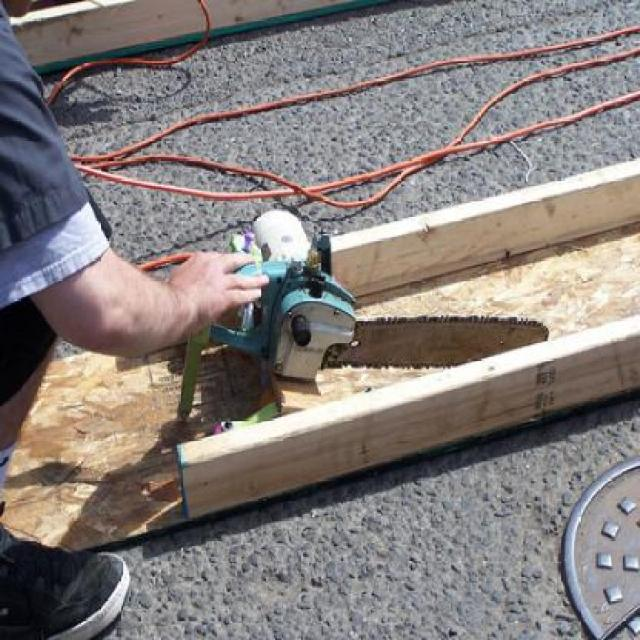Chainsaw: (177, 208, 551, 423)
